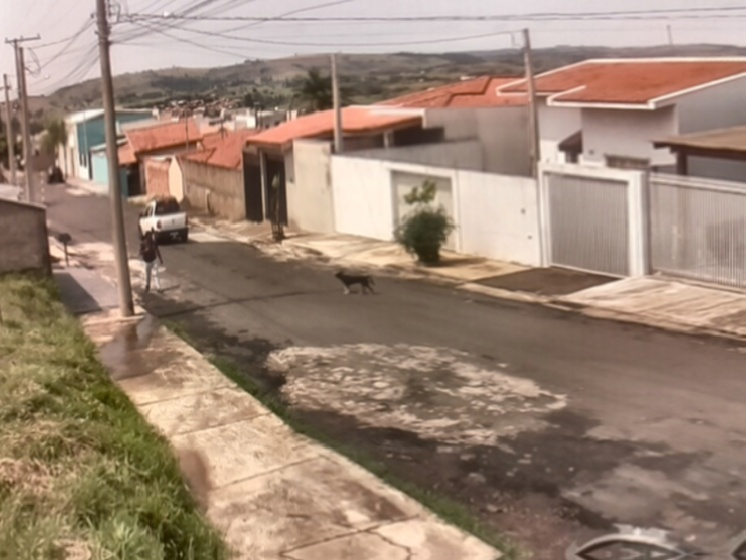person: (138, 231, 165, 295)
